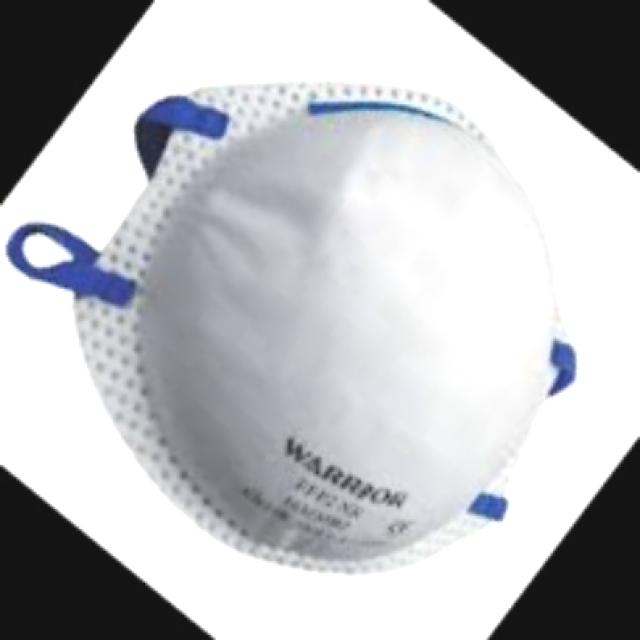B3: (34, 177, 550, 522)
